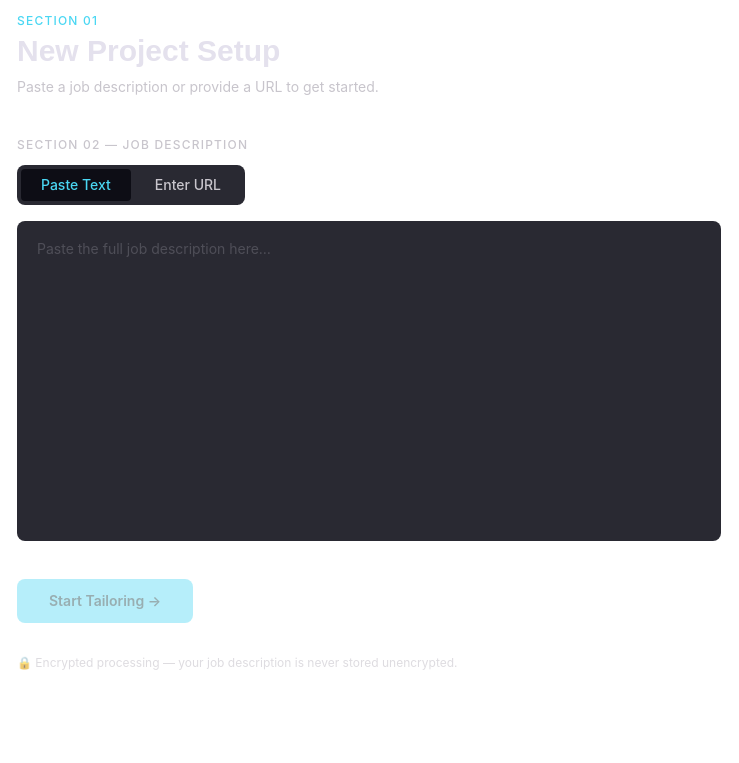
Test: NewProjectPage — /dashboard/new › clears the error when the user switches modes
Type "Some job description text" into the text box with placeholder "Paste the full job description here…" at (369, 381), box [17,221,721,541]
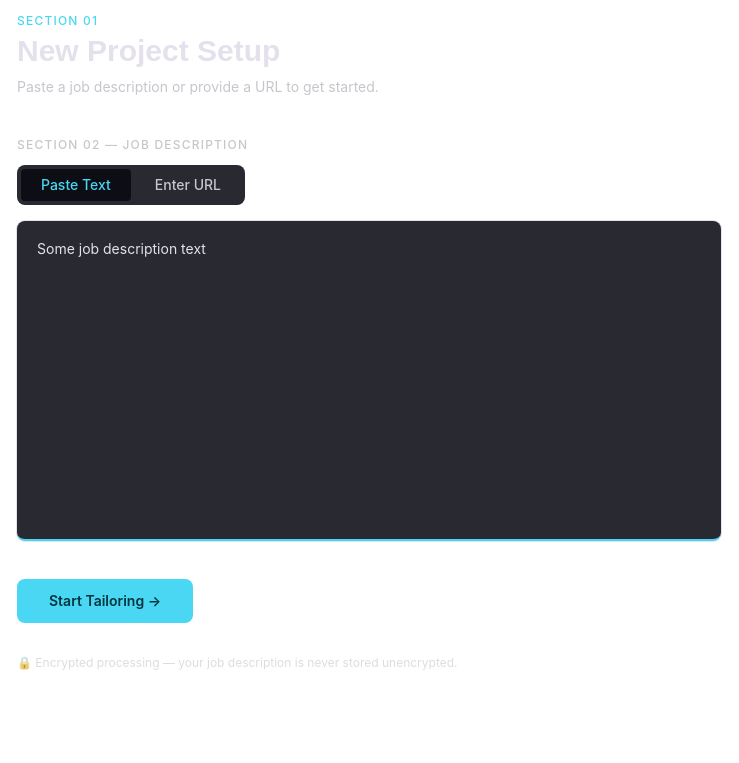
Click the button "Start Tailoring →" at (105, 601), box [17,579,193,623]
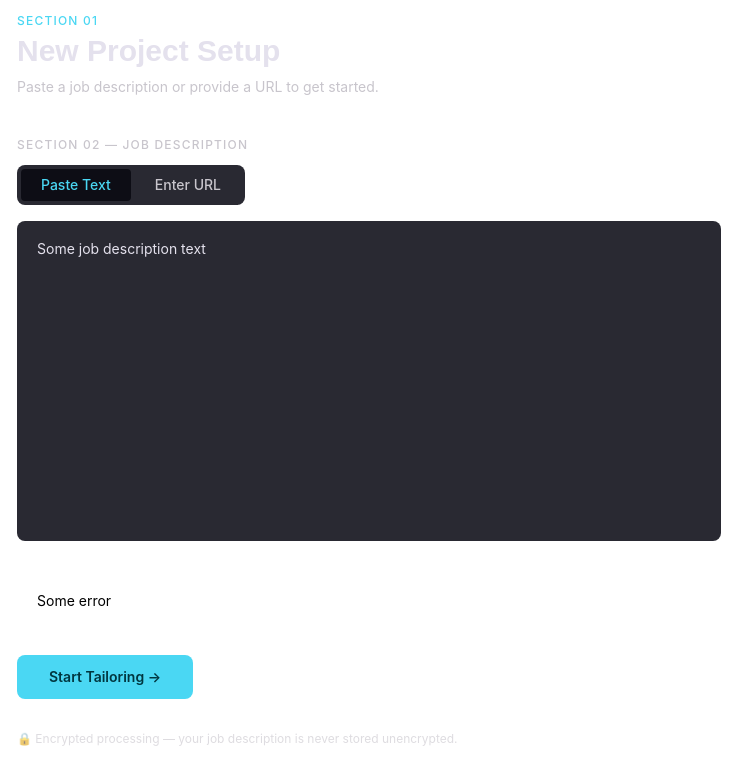
Now the text "Some error" is shown, box [37,592,111,609]
# Switch mode — error should clear
Click the button "Enter URL" at (188, 185), box [135,169,241,201]
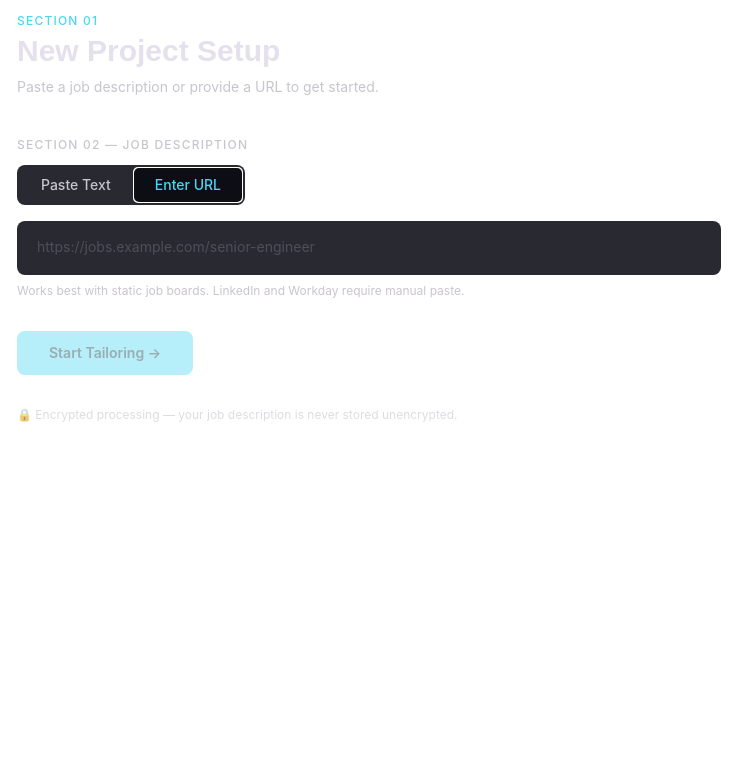
Now the text "Some error" is gone
